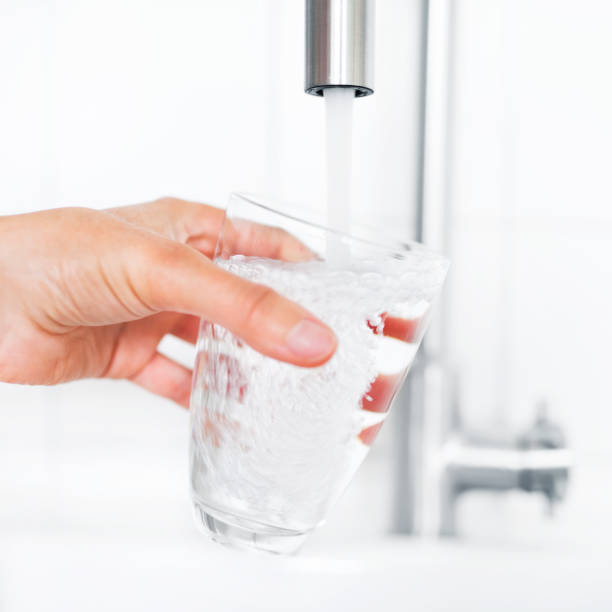glass of water: (188, 178, 461, 577)
